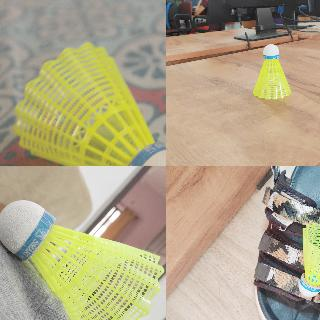shuttlecock: (0, 200, 164, 319), (14, 41, 165, 165), (252, 44, 290, 98), (298, 221, 319, 297)
